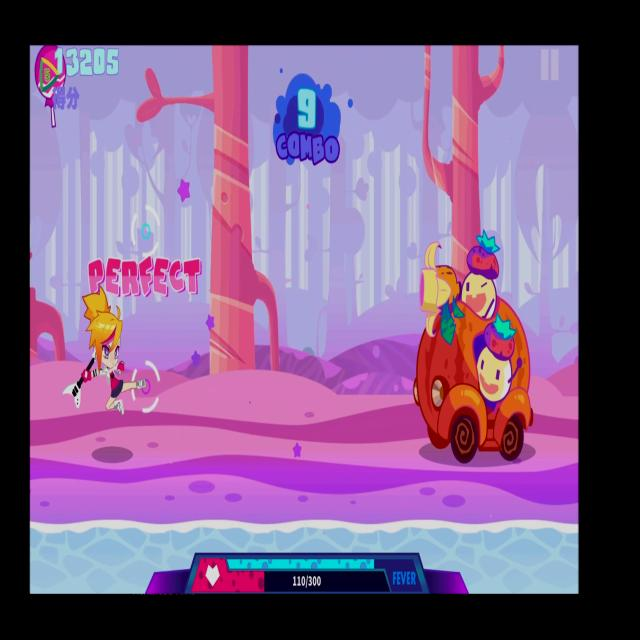cheboss: (406, 227, 540, 467)
